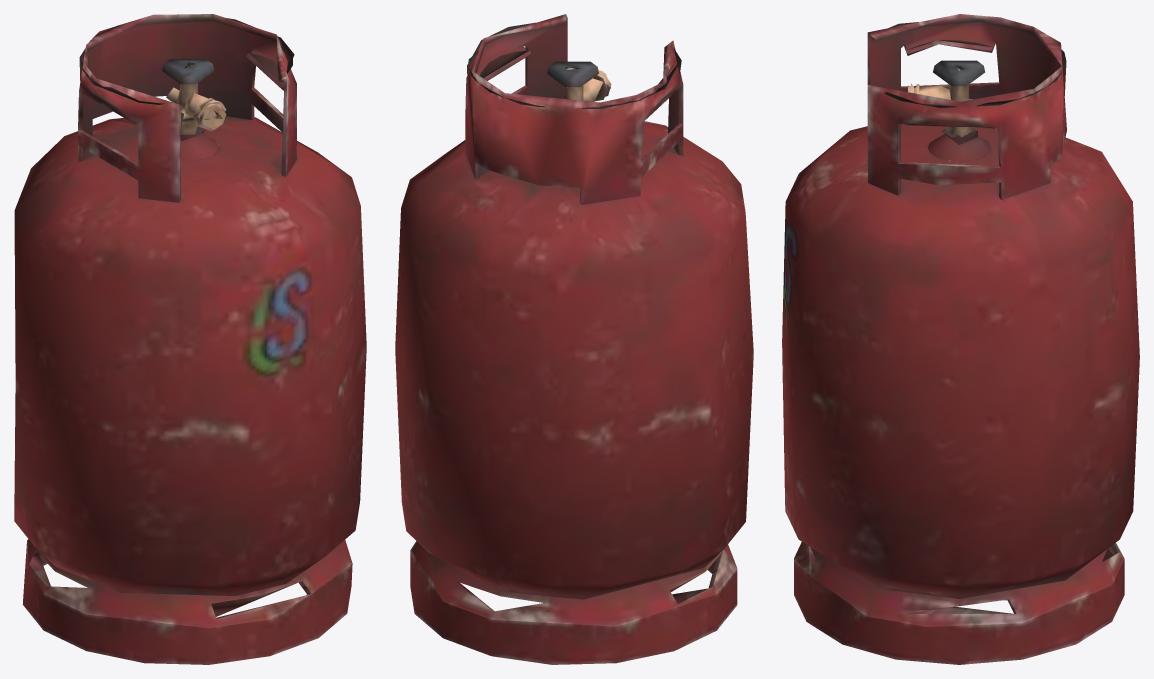
File: propane_tank.glb
3 views of the same model, side by side, from view 1: azimuth 30°, elevation 25°; view 2: azimuth 150°, elevation 25°; view 3: azimuth 270°, elevation 25° (orthographic).
Visible parts, largest first — view 1: propane_tank; view 2: propane_tank; view 3: propane_tank.
Part boxes in pixels (x1,y1,x2,y2): propane_tank: [14, 14, 366, 664]; propane_tank: [395, 14, 753, 664]; propane_tank: [782, 14, 1139, 664].
Bounding box in the file's own units: 0.3279 × 0.5534 × 0.3341.
Materials: 1 (1 with a texture image).
